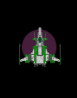spaceship: (17, 24, 63, 69)
